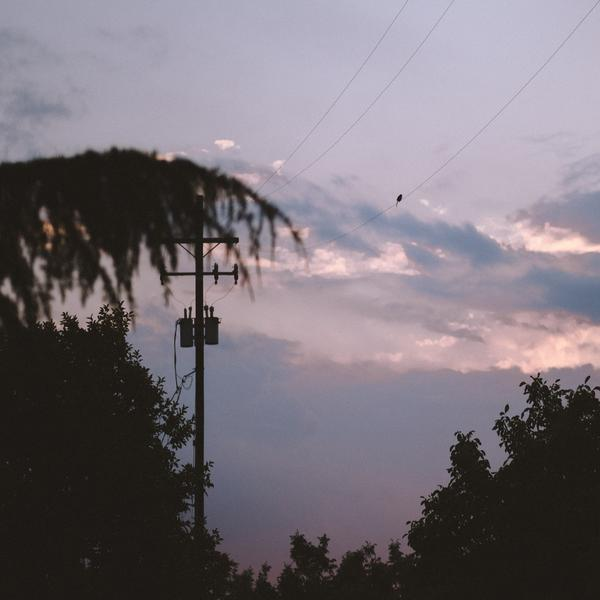utility_pole: (158, 191, 246, 374)
